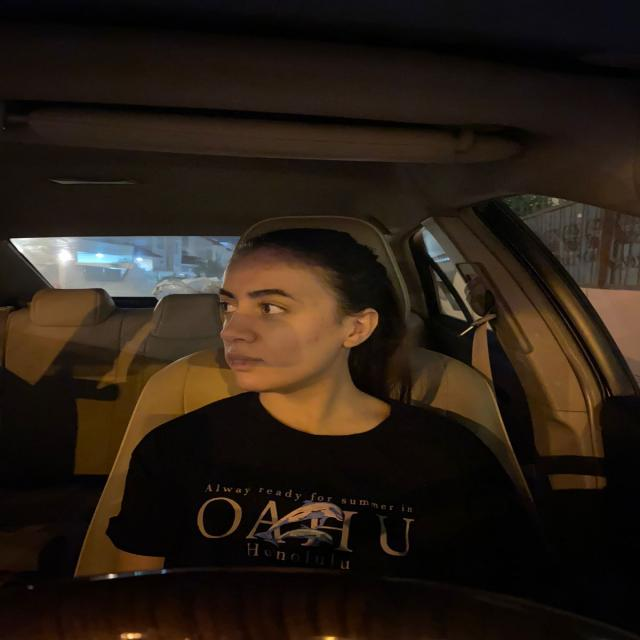person: (210, 242, 395, 394)
